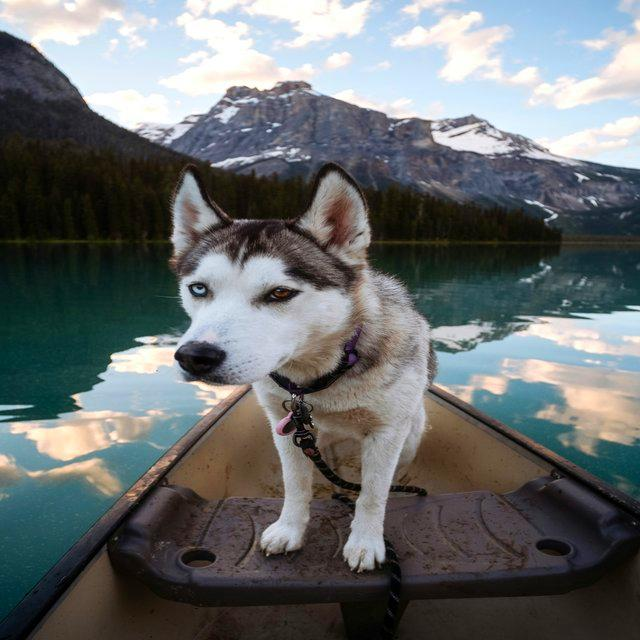husky: (167, 159, 438, 572)
